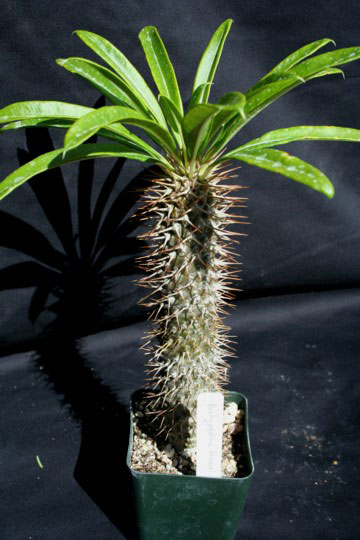Pachypodium lamerei Drake: (55, 22, 317, 449)
